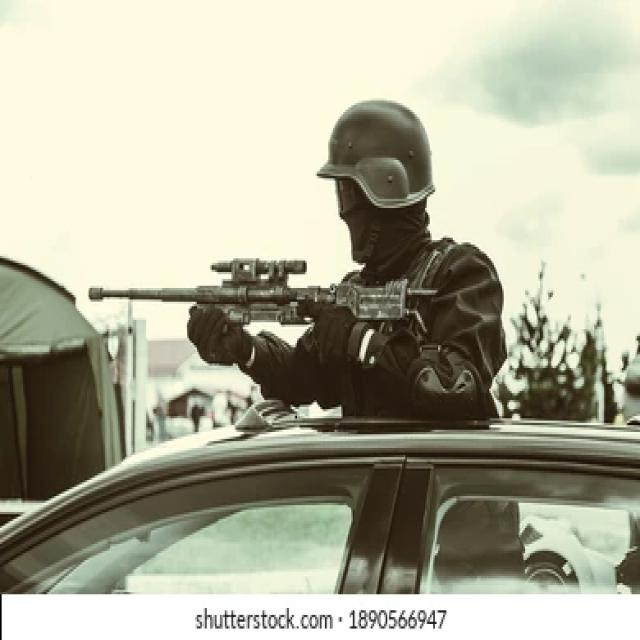soldier: (83, 103, 511, 422)
